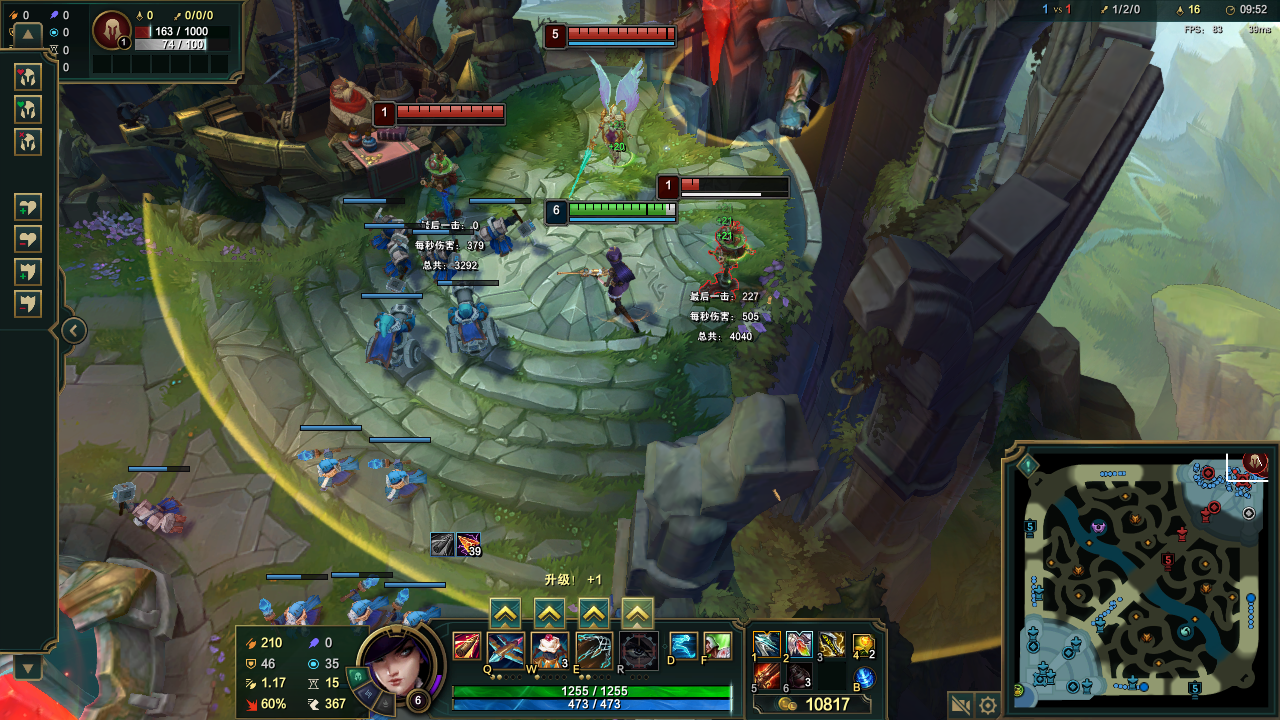DFYX: (569, 22, 675, 38), (682, 176, 791, 191), (398, 105, 505, 120)
